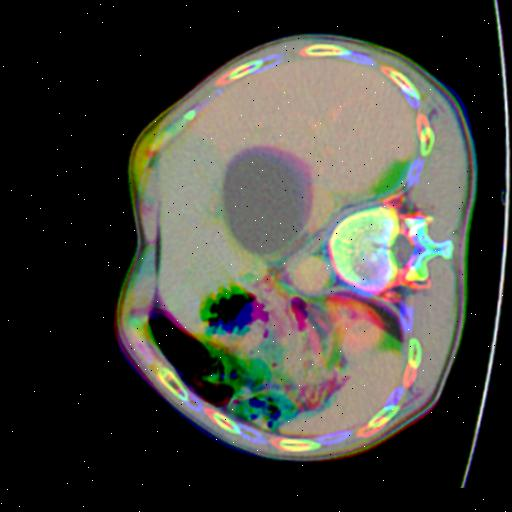Cyst: (225, 149, 310, 258)
